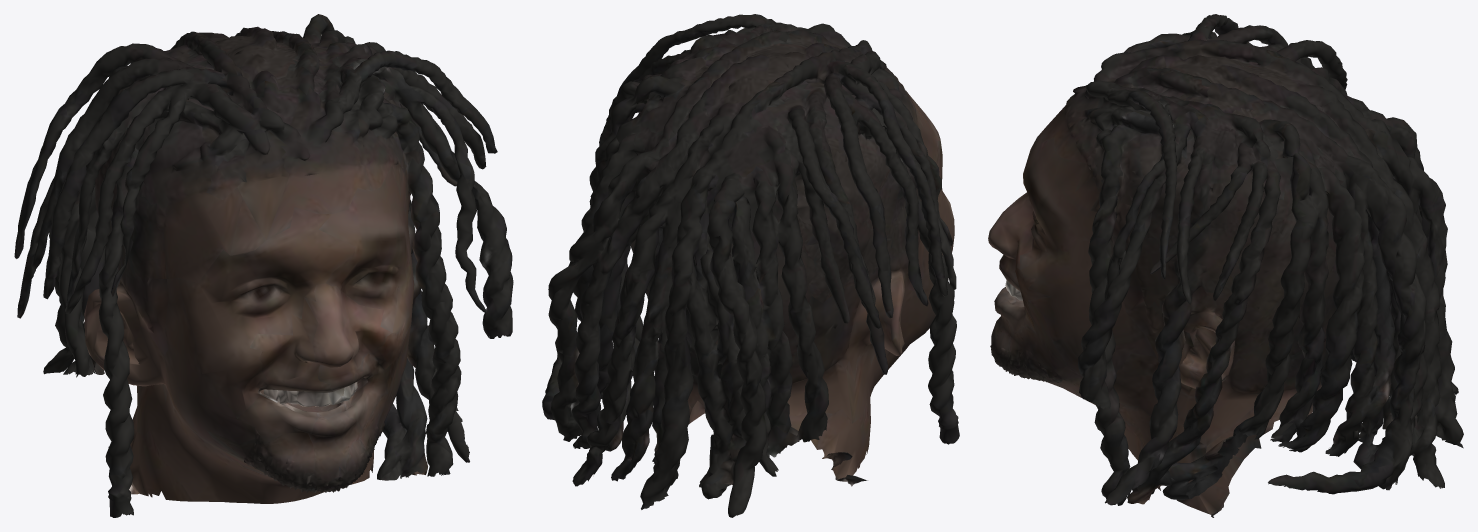
The model's file is head_erick.glb.
3 renders of one model, left to right at view 1: azimuth 30°, elevation 25°; view 2: azimuth 150°, elevation 25°; view 3: azimuth 270°, elevation 25°, orthographic. The views are drawn at different scales.
Parts seen in each view (by area): view 1: Mesh_0; view 2: Mesh_0; view 3: Mesh_0.
Boxes of the visible parts, x1,y1,x2,y2 form: Mesh_0: (14, 14, 513, 517); Mesh_0: (542, 14, 959, 517); Mesh_0: (988, 14, 1463, 517).
Size of the model in its own units: 0.6874 by 0.707 by 0.7403.
1 material, 1 textured.
